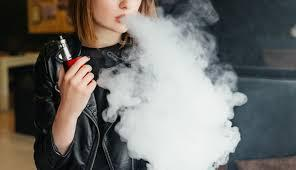smoker: (30, 0, 239, 170)
